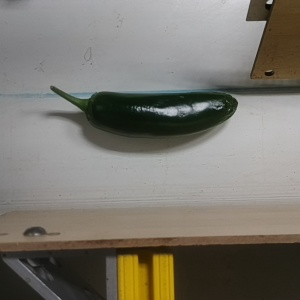Cut Point: (78, 88, 108, 128)
